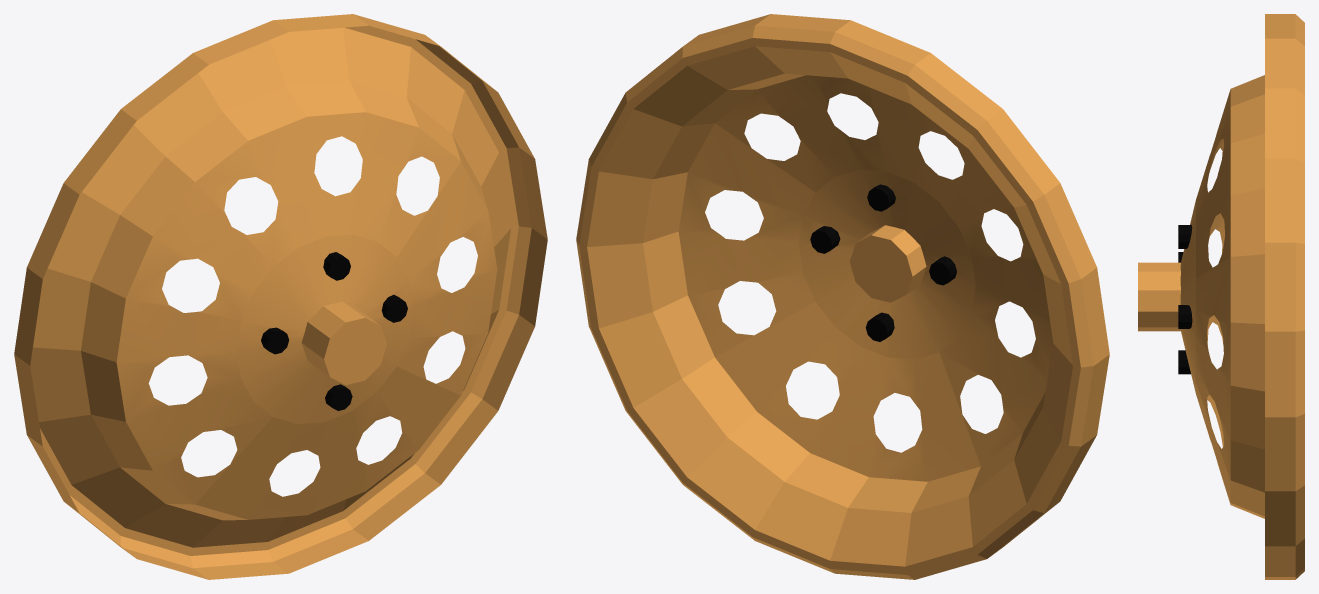
File: Ring4.fbx
3 renders of one model, left to right at view 1: azimuth 30°, elevation 25°; view 2: azimuth 150°, elevation 25°; view 3: azimuth 270°, elevation 25°, orthographic. The views are drawn at different scales.
Visible parts, largest first — view 1: pCylinder22; view 2: pCylinder22; view 3: pCylinder22.
Part boxes in pixels (x1,y1,x2,y2): pCylinder22: (14,14,547,579); pCylinder22: (576,14,1109,579); pCylinder22: (1138,14,1304,579).
Size of the model in its own units: 0.0291 by 0.0291 by 0.00852.
